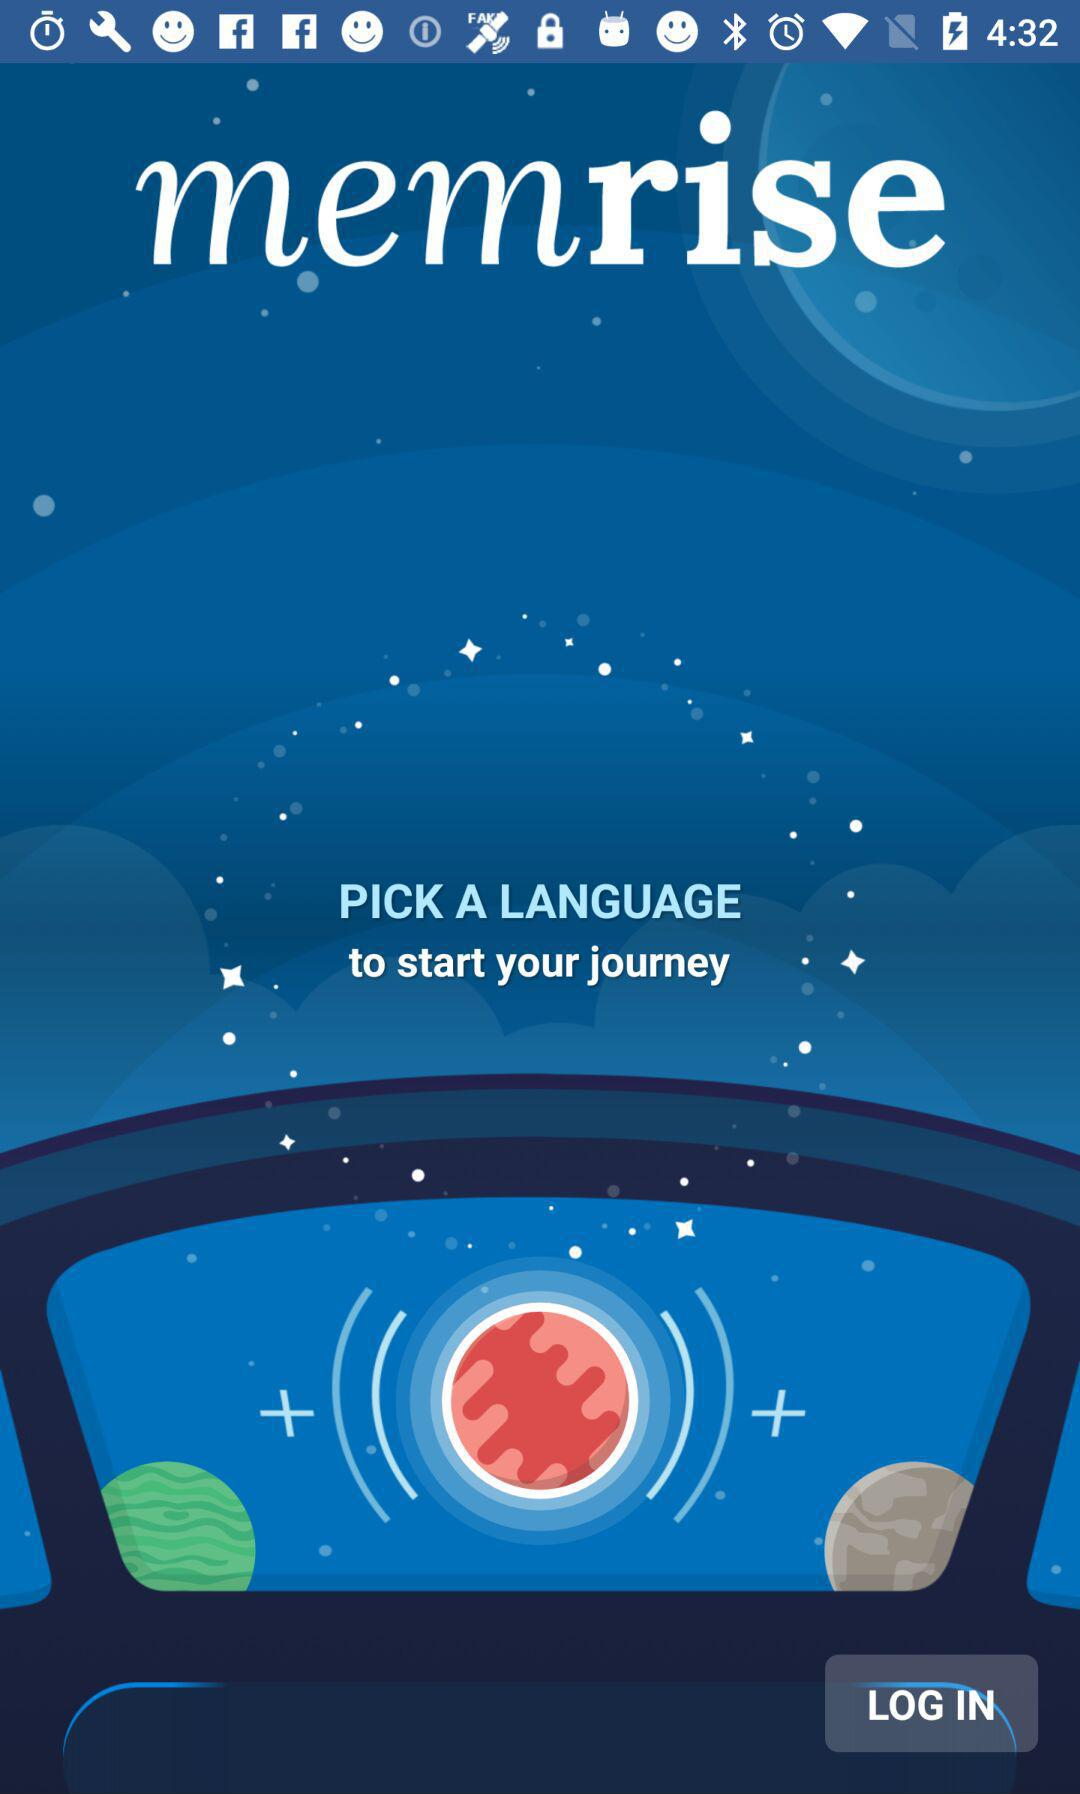BackgroundImage: (1, 64, 1080, 1794)
Text: (348, 944, 732, 989), (340, 882, 743, 921)
TextButton: (825, 1654, 1039, 1753)
UpperTaskBar: (1, 1, 1080, 64)
